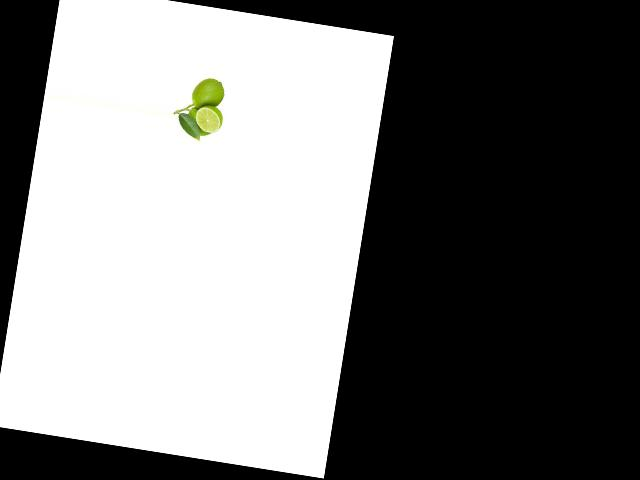lemon: (181, 106, 215, 139)
